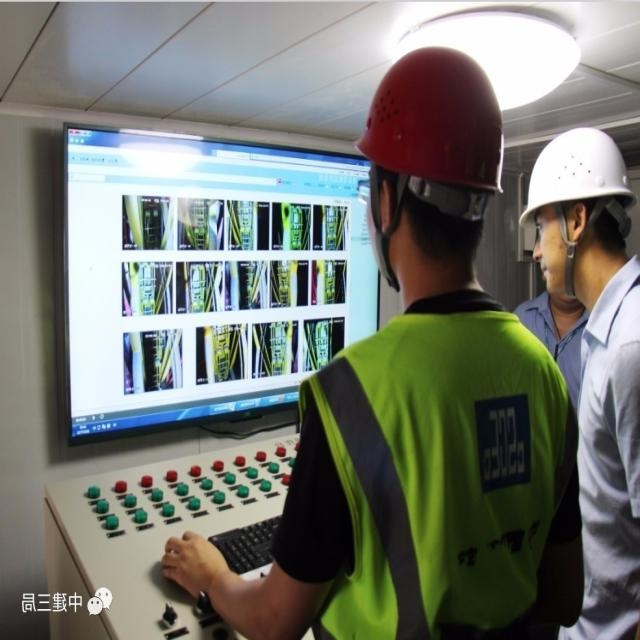Con_Chaleco: (306, 307, 574, 640)
